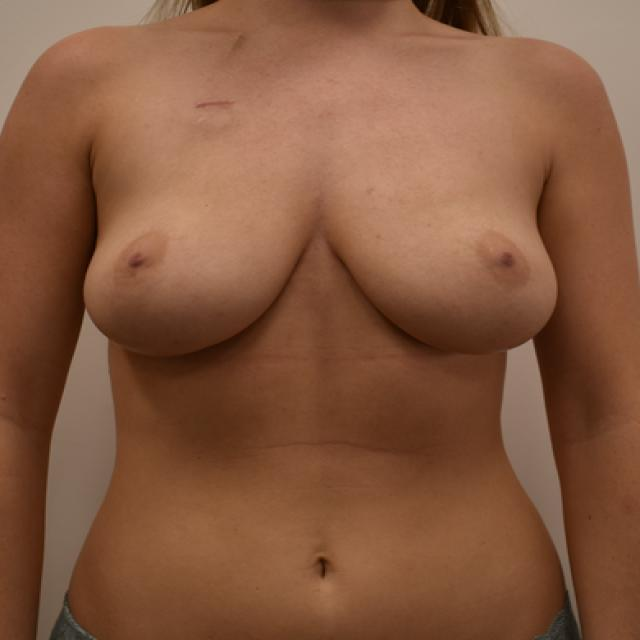Seno ileso: (76, 146, 316, 375), (322, 146, 565, 372)
